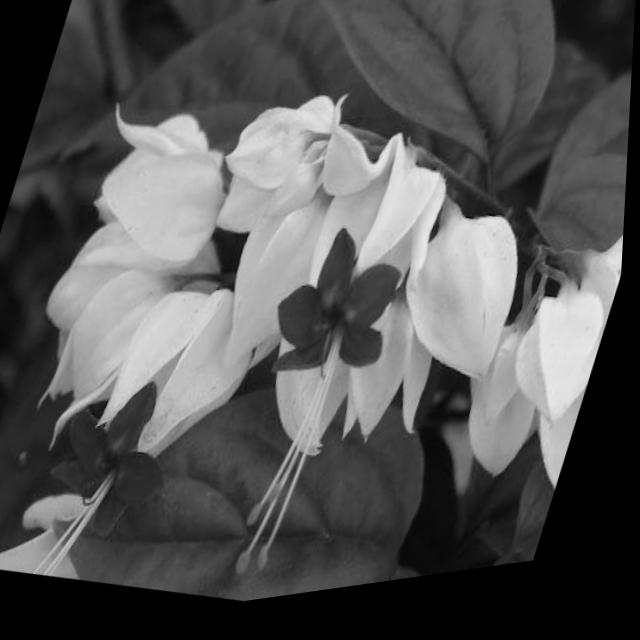Flower: (165, 92, 508, 618), (0, 75, 290, 586)
